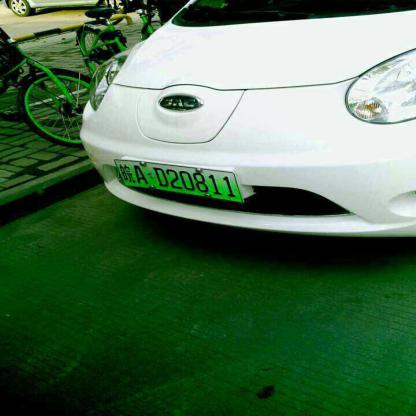lp: (111, 159, 244, 201)
